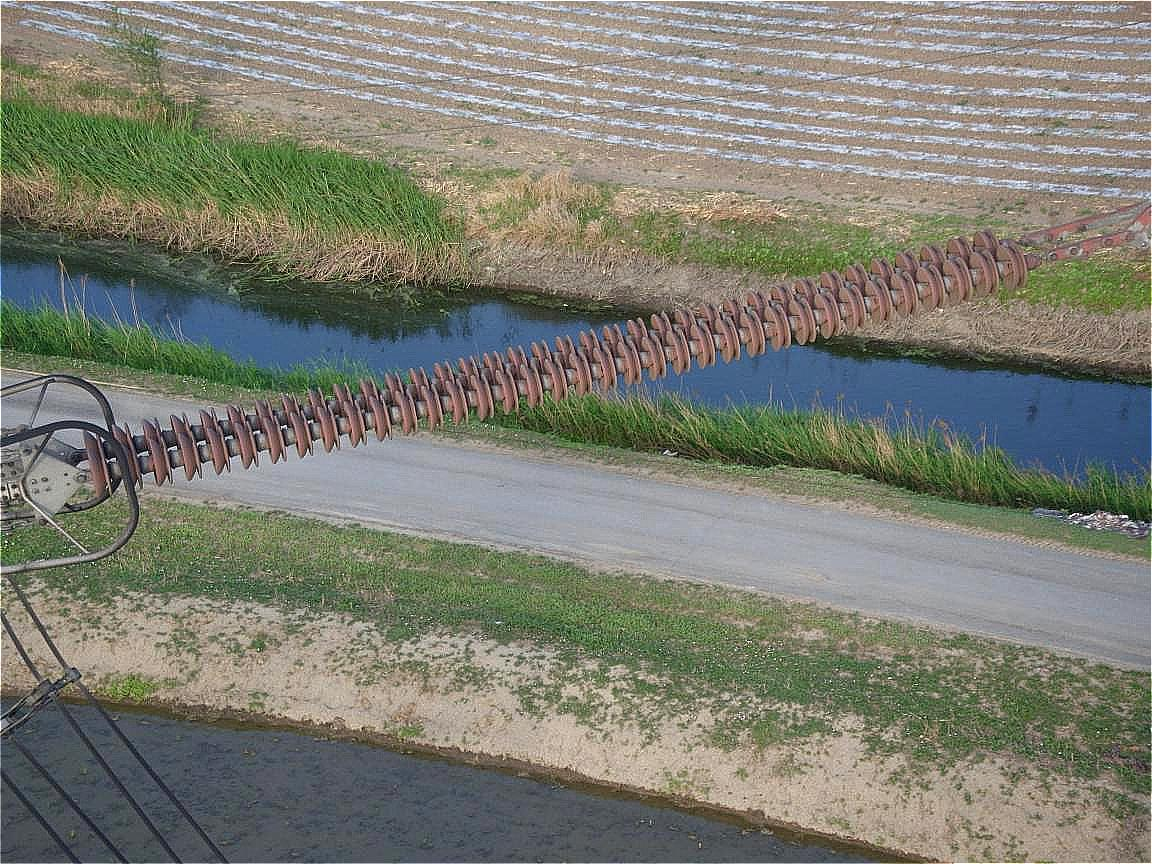insultor2: (80, 228, 1031, 494)
